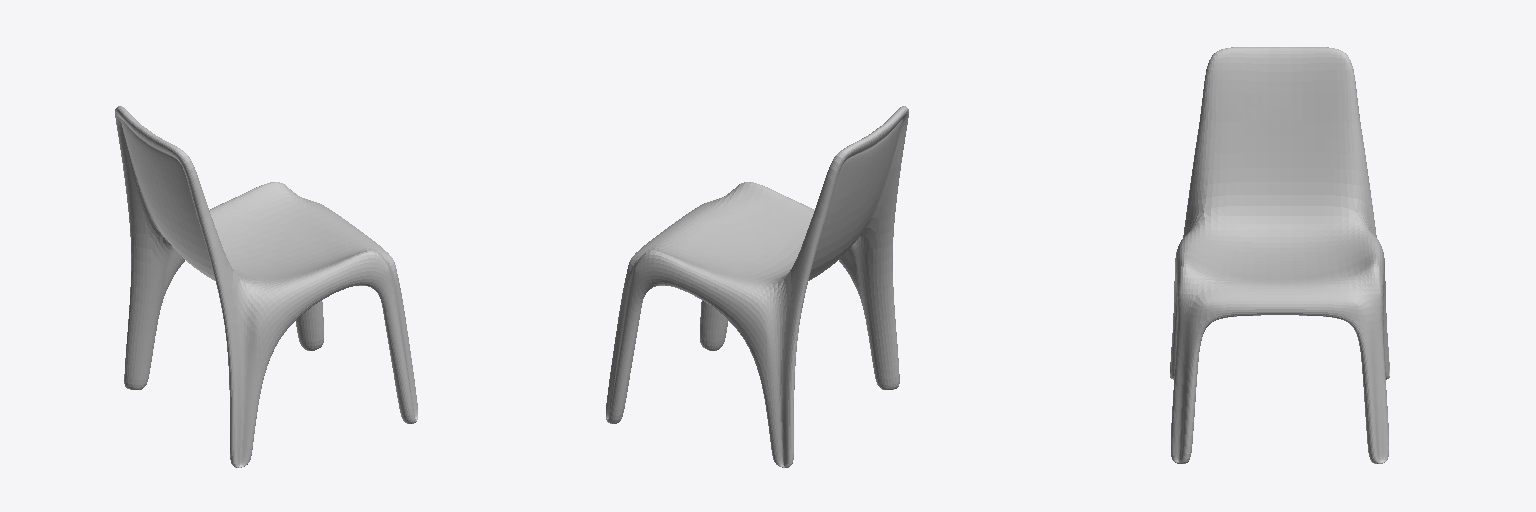
The model's file is chairThree.obj.
3 views of the same model, side by side, from view 1: azimuth 30°, elevation 25°; view 2: azimuth 150°, elevation 25°; view 3: azimuth 270°, elevation 25° (orthographic).
Parts seen in each view (by area): view 1: 20335_Bofinger_Chair_V1.002; view 2: 20335_Bofinger_Chair_V1.002; view 3: 20335_Bofinger_Chair_V1.002.
Boxes of the visible parts, <box> form: 20335_Bofinger_Chair_V1.002: <box>115,106,417,467</box>; 20335_Bofinger_Chair_V1.002: <box>606,106,908,467</box>; 20335_Bofinger_Chair_V1.002: <box>1170,47,1389,463</box>.
Size of the model in its own units: 0.8834 by 1.14 by 0.7363.